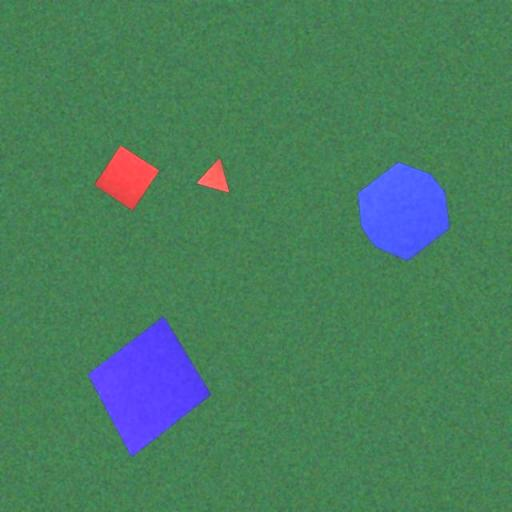BLUE_SQUARE: (87, 316, 212, 458)
RED_SQUARE: (94, 145, 159, 212)
